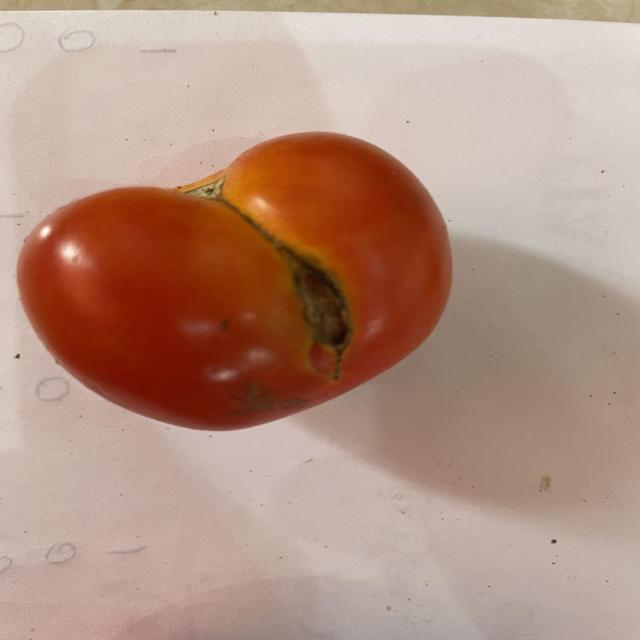Cracking Fruit: (80, 58, 276, 271)
